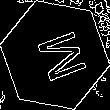M_W: (25, 24, 85, 86)
